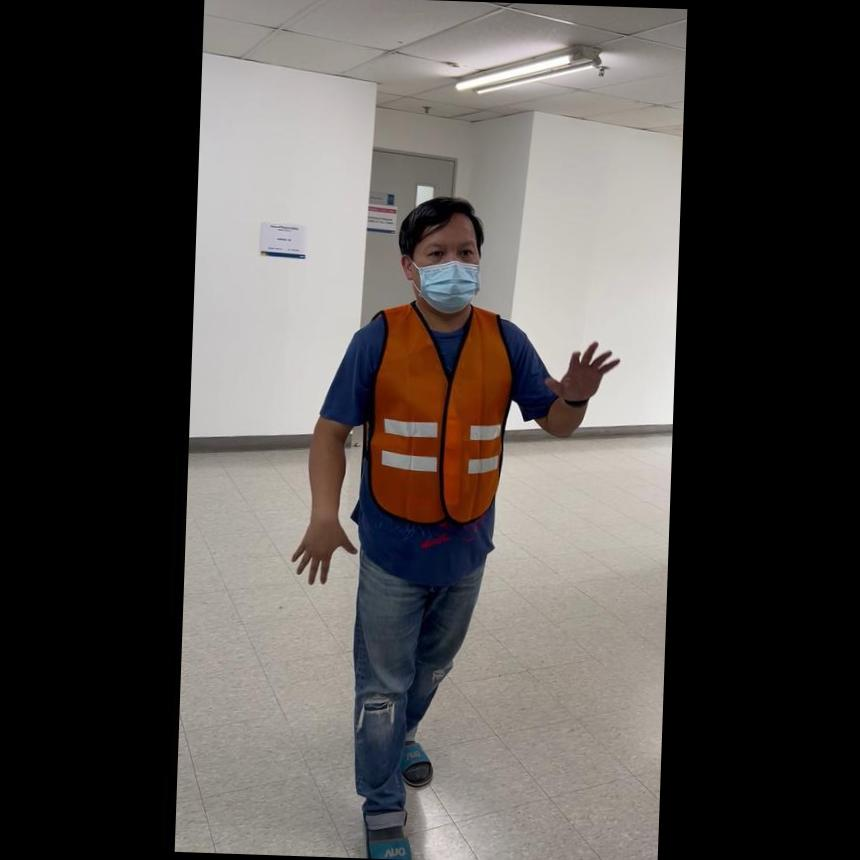No-gloves: (286, 510, 356, 588), (548, 332, 618, 404)
